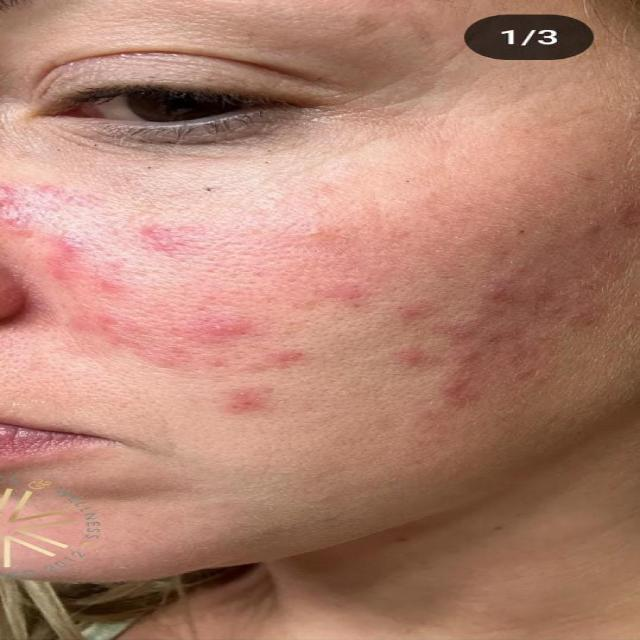Rosacea: (15, 196, 412, 373)
